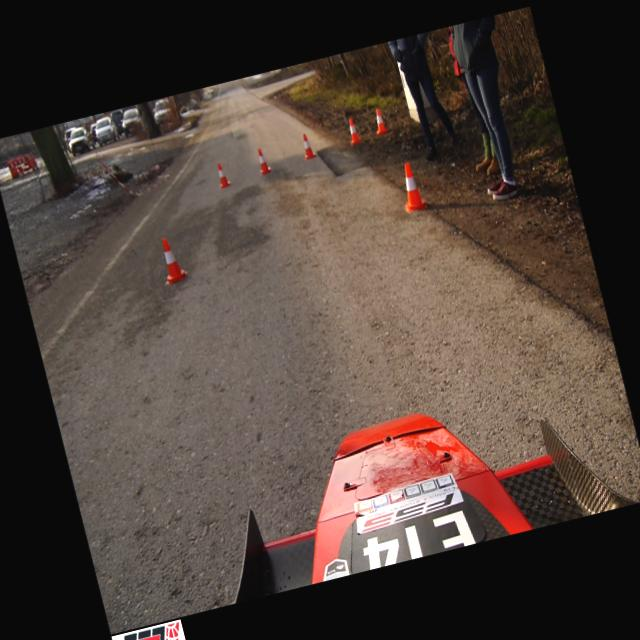orange_cone: (154, 234, 188, 285), (394, 160, 426, 210), (344, 116, 361, 144), (255, 146, 271, 174), (213, 161, 230, 187), (300, 132, 316, 158), (371, 106, 387, 132)
